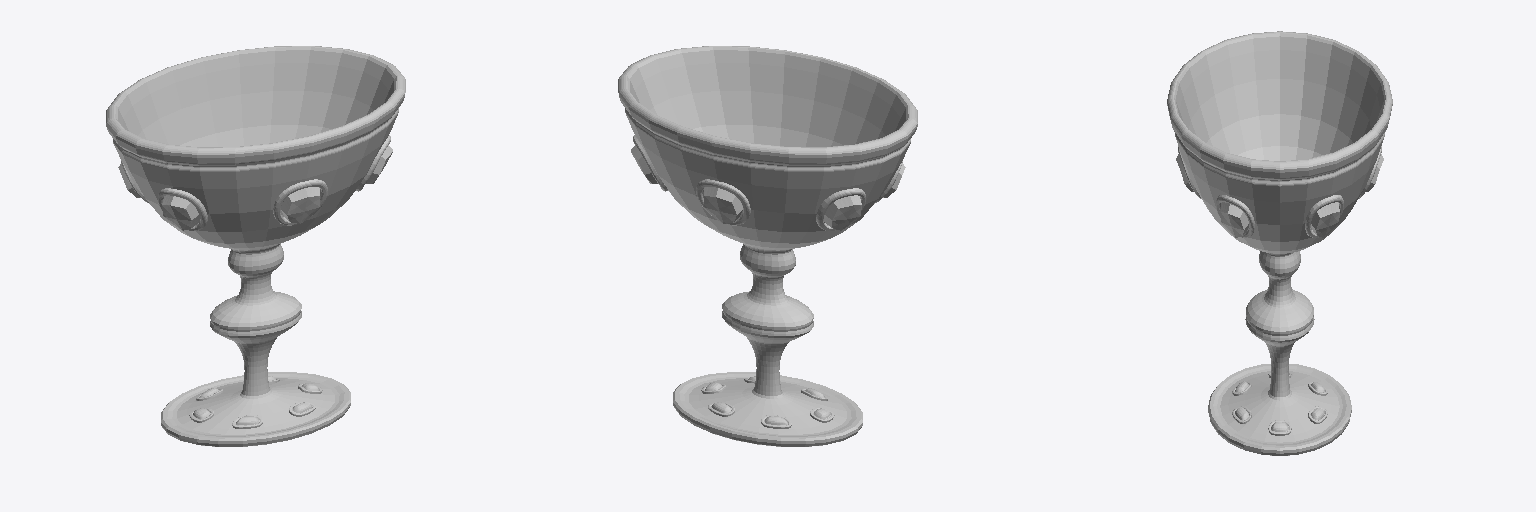
Rendered from winnerCup.obj.
3 renders of one model, left to right at view 1: azimuth 30°, elevation 25°; view 2: azimuth 150°, elevation 25°; view 3: azimuth 270°, elevation 25°, orthographic.
Parts seen in each view (by area): view 1: Object_2_Object_0.003; view 2: Object_2_Object_0.003; view 3: Object_2_Object_0.003.
Part boxes in pixels (left/top/right/bottom): Object_2_Object_0.003: left=106, top=46, right=405, bottom=446; Object_2_Object_0.003: left=618, top=46, right=917, bottom=446; Object_2_Object_0.003: left=1167, top=31, right=1392, bottom=455.
Bounding box in the file's own units: 1.44 × 1.57 × 1.01.